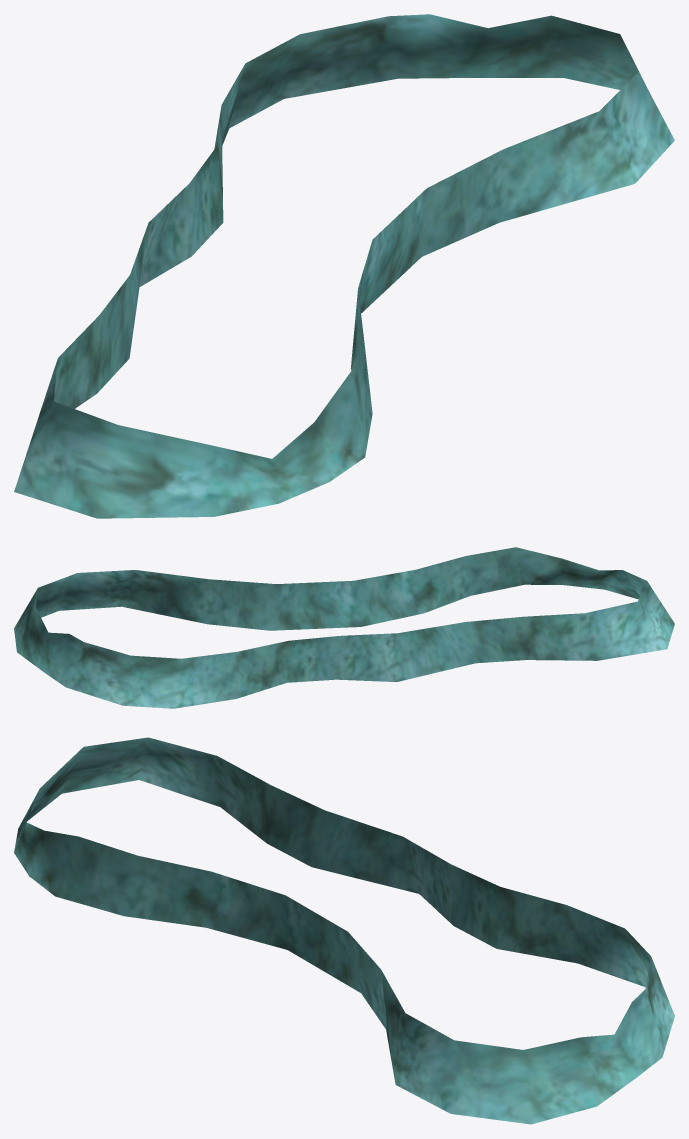
The model's file is EKH_CAVERNS_PS_CA_OBJECT19.fbx.
3 renders of one model, top to bottom at view 1: azimuth 30°, elevation 25°; view 2: azimuth 150°, elevation 25°; view 3: azimuth 270°, elevation 25°, orthographic. The views are drawn at different scales.
Parts seen in each view (by area): view 1: EKH_CAVERNS_PS_CA_OBJECT19; view 2: EKH_CAVERNS_PS_CA_OBJECT19; view 3: EKH_CAVERNS_PS_CA_OBJECT19.
Boxes of the visible parts, box(x1,y1,x2,y2) form: EKH_CAVERNS_PS_CA_OBJECT19: box(14, 14, 674, 518); EKH_CAVERNS_PS_CA_OBJECT19: box(14, 547, 674, 708); EKH_CAVERNS_PS_CA_OBJECT19: box(14, 737, 674, 1124).
Size of the model in its own units: 107569 by 8775 by 87213.
Materials: 1 (1 with a texture image).
